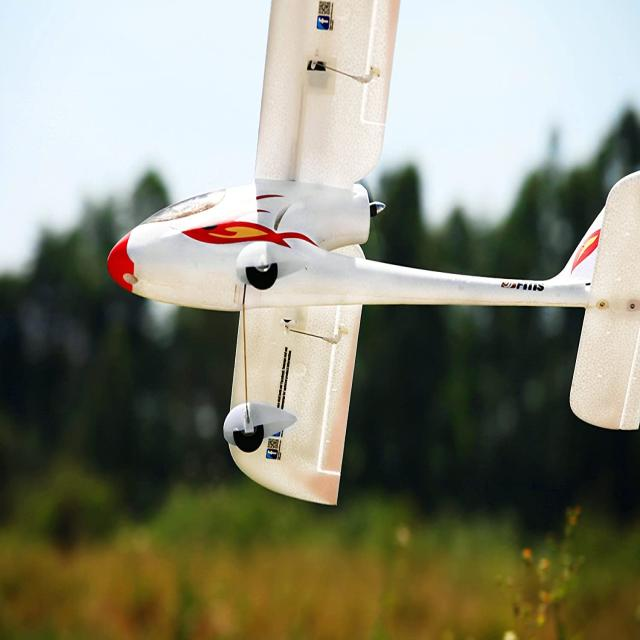iha: (106, 0, 640, 515)
